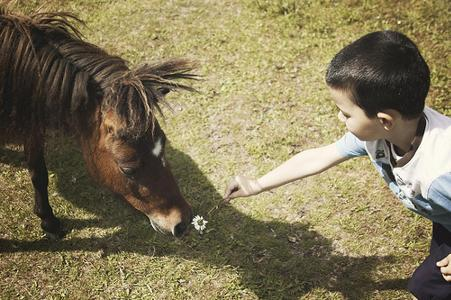person: (224, 32, 451, 300)
